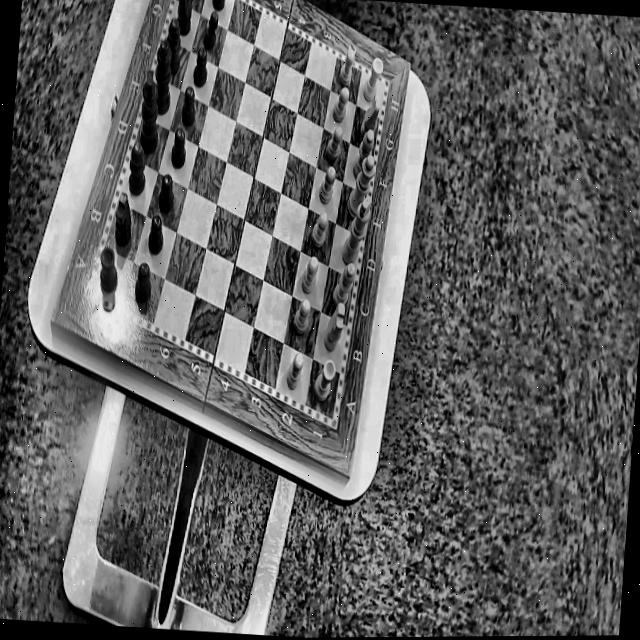chessboard: (93, 0, 385, 414)
